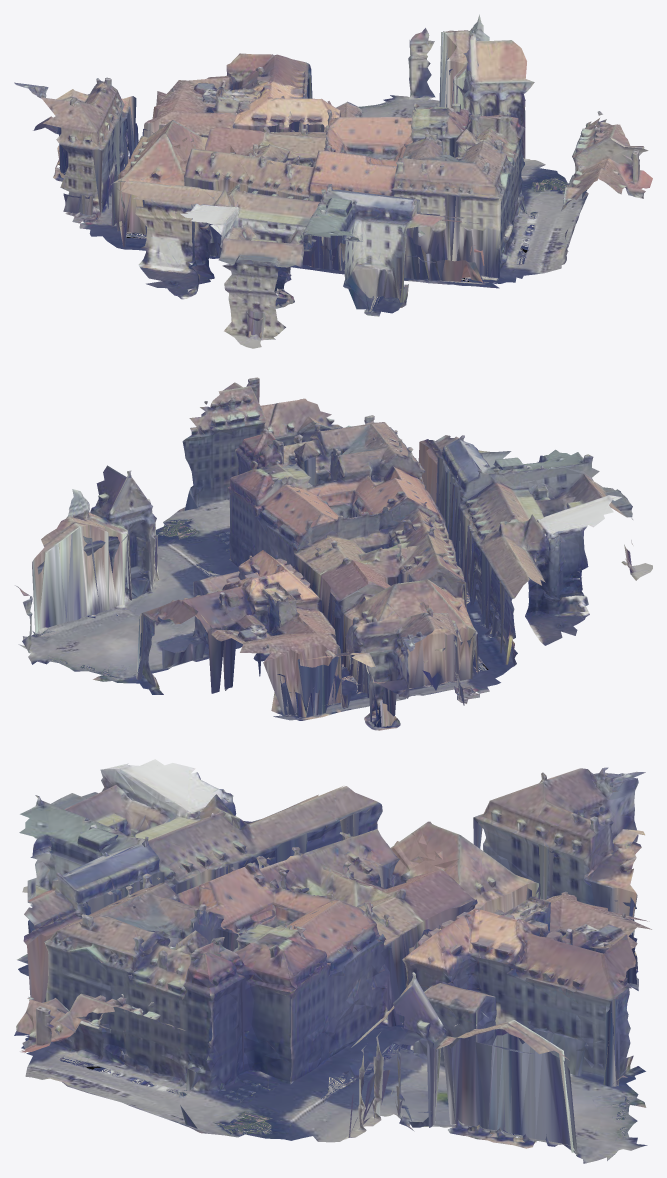
3 views of the same model, one above another, from view 1: azimuth 30°, elevation 25°; view 2: azimuth 150°, elevation 25°; view 3: azimuth 270°, elevation 25° (orthographic). The views are drawn at different scales.
Bounding box in the file's own units: 108 × 31.53 × 108.
1 material, 1 textured.
